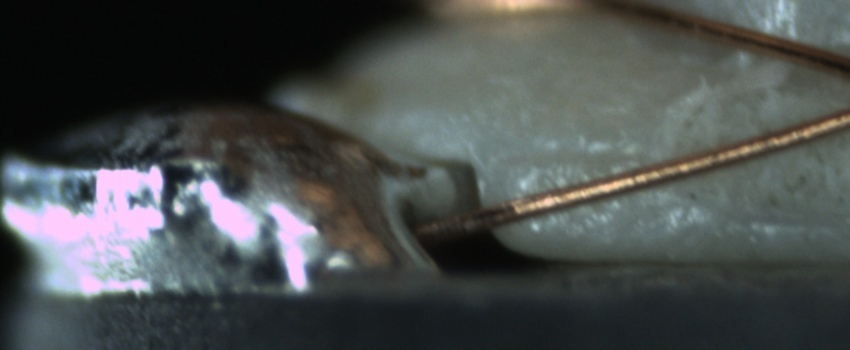DL: (509, 125, 655, 188)
